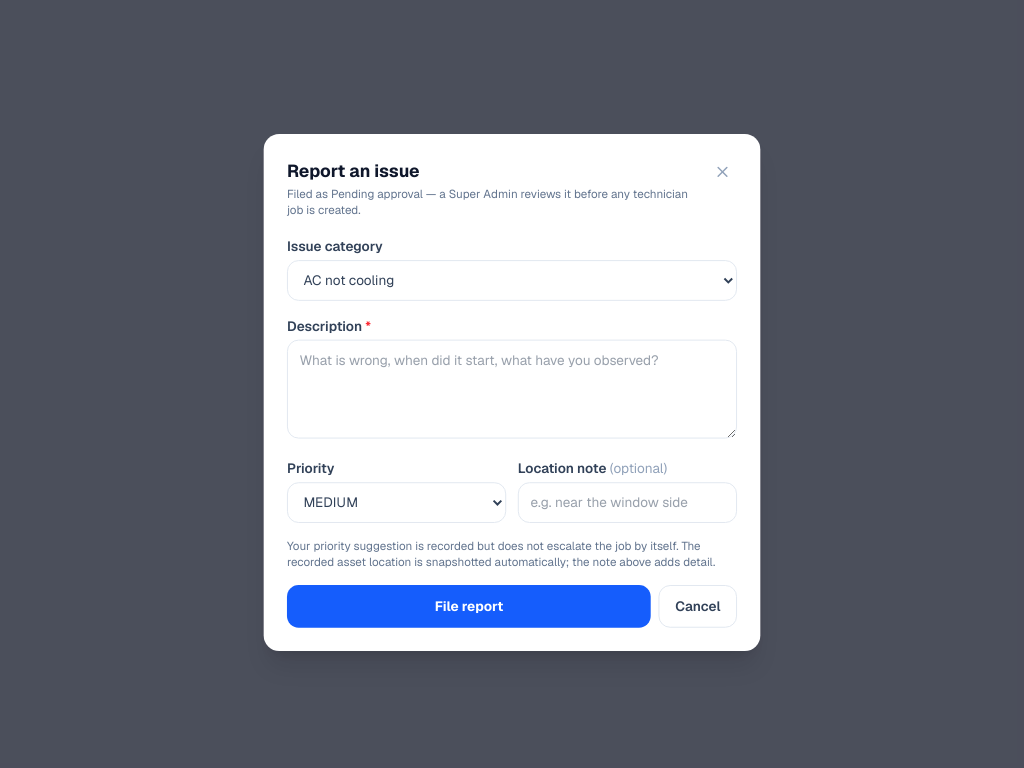
Test case: ReportIssueModal › submits with an idempotency key and shows the pending confirmation
Type "AC blows warm air." into the text box with placeholder "What is wrong, when did it start, what have you observed?" at (512, 389), box x1=287 y1=339 x2=737 y2=438
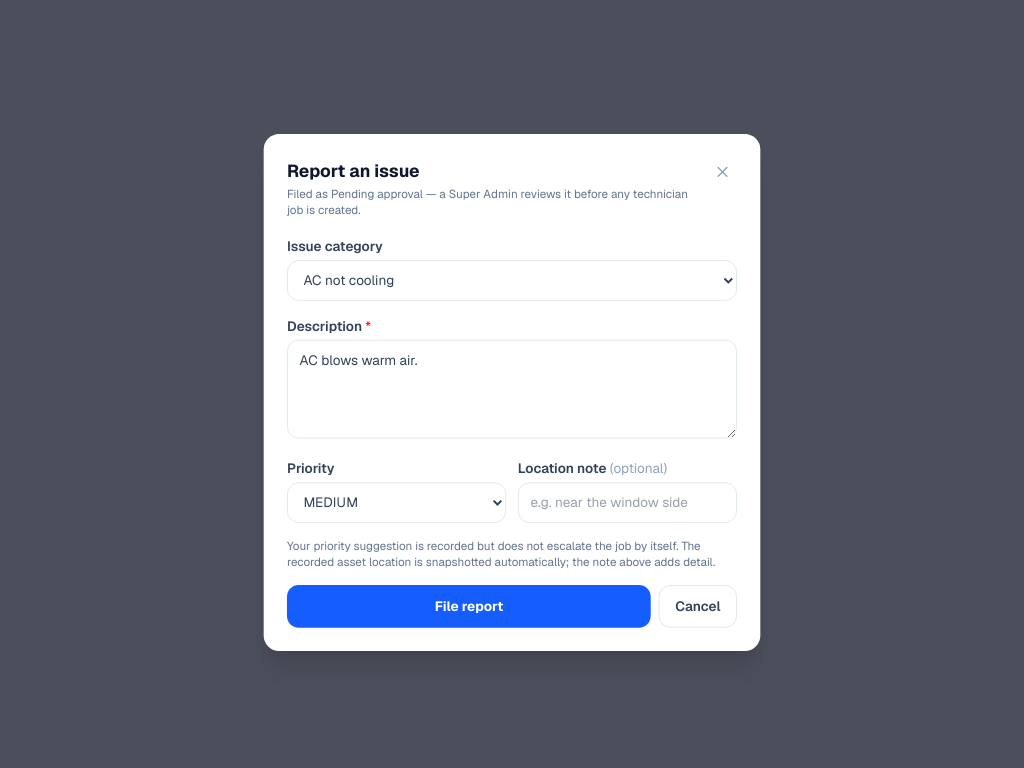
Click the button "File report" at (469, 606), box x1=287 y1=584 x2=651 y2=627
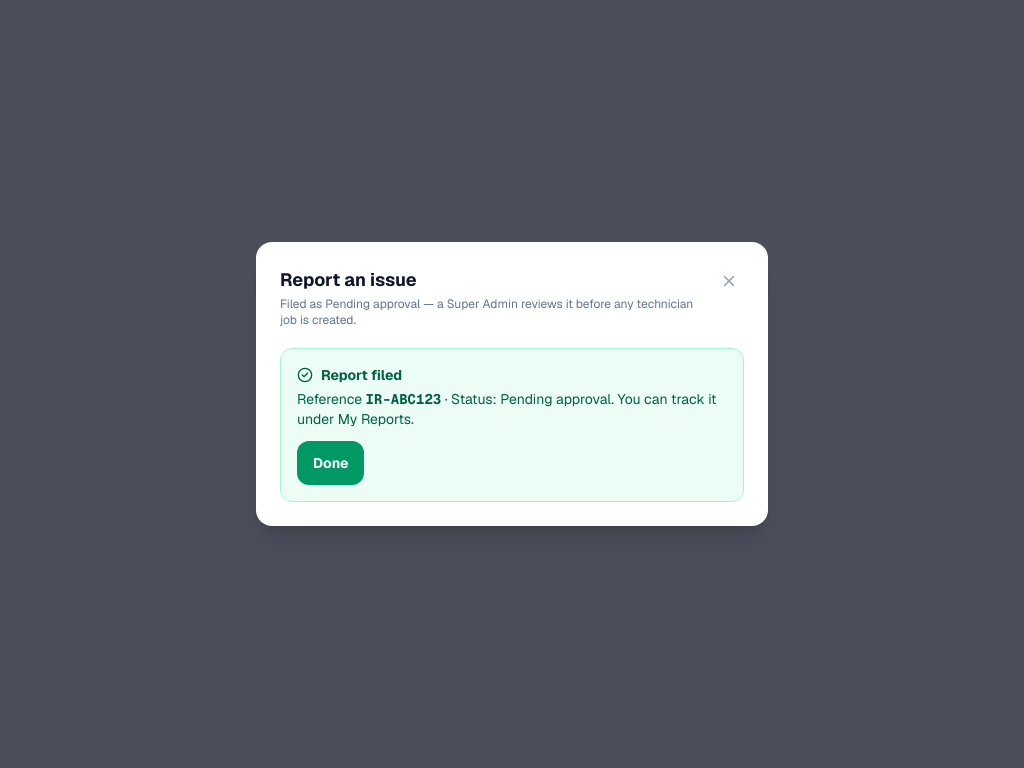
Now the text "Report filed" is shown, box x1=297 y1=366 x2=402 y2=384
Now the text "IR-ABC123" is shown, box x1=366 y1=390 x2=441 y2=408
